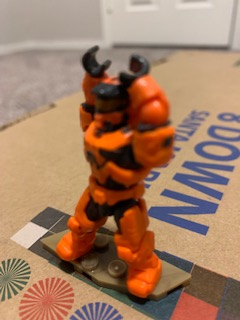spartan: (54, 43, 175, 300)
up: (74, 43, 176, 189)
